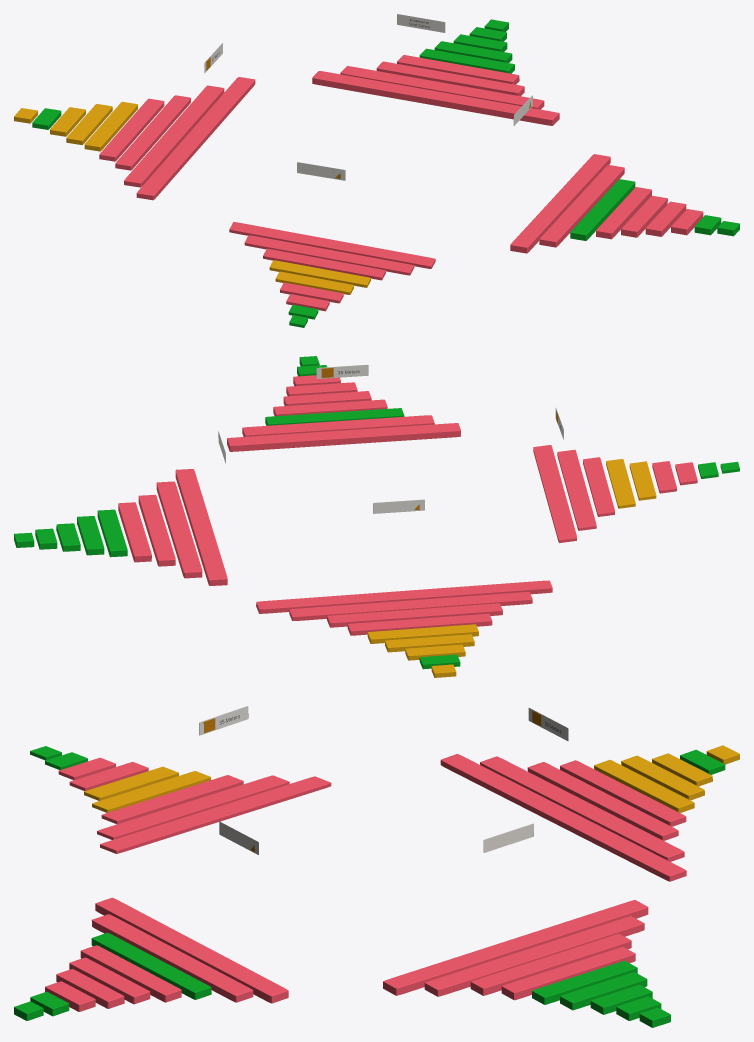
Rendered from jump_domi18.gltf.
3 views of the same model, one above another, from view 1: azimuth 30°, elevation 25°; view 2: azimuth 150°, elevation 25°; view 3: azimuth 270°, elevation 25° (orthographic). The views are drawn at different scales.
Visible parts, largest first — view 1: Cube right (×29); view 2: Cube right (×27); view 3: Cube right (×34).
Part boxes in pixels (bbox=[...]): Cube right (×29): bbox=[50, 14, 703, 303]; Cube right (×27): bbox=[56, 382, 676, 660]; Cube right (×34): bbox=[30, 706, 725, 1020].
Bounding box in the file's own units: 36.5 × 7.19 × 40.17.
